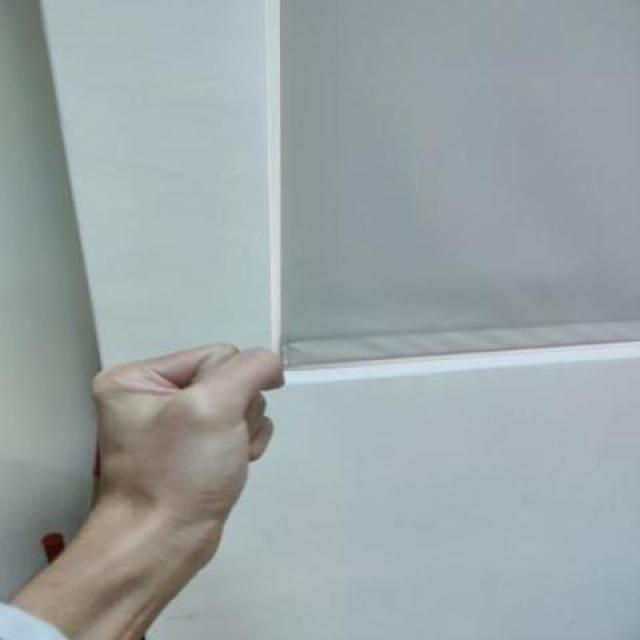Closed Hand: (39, 327, 302, 548)
